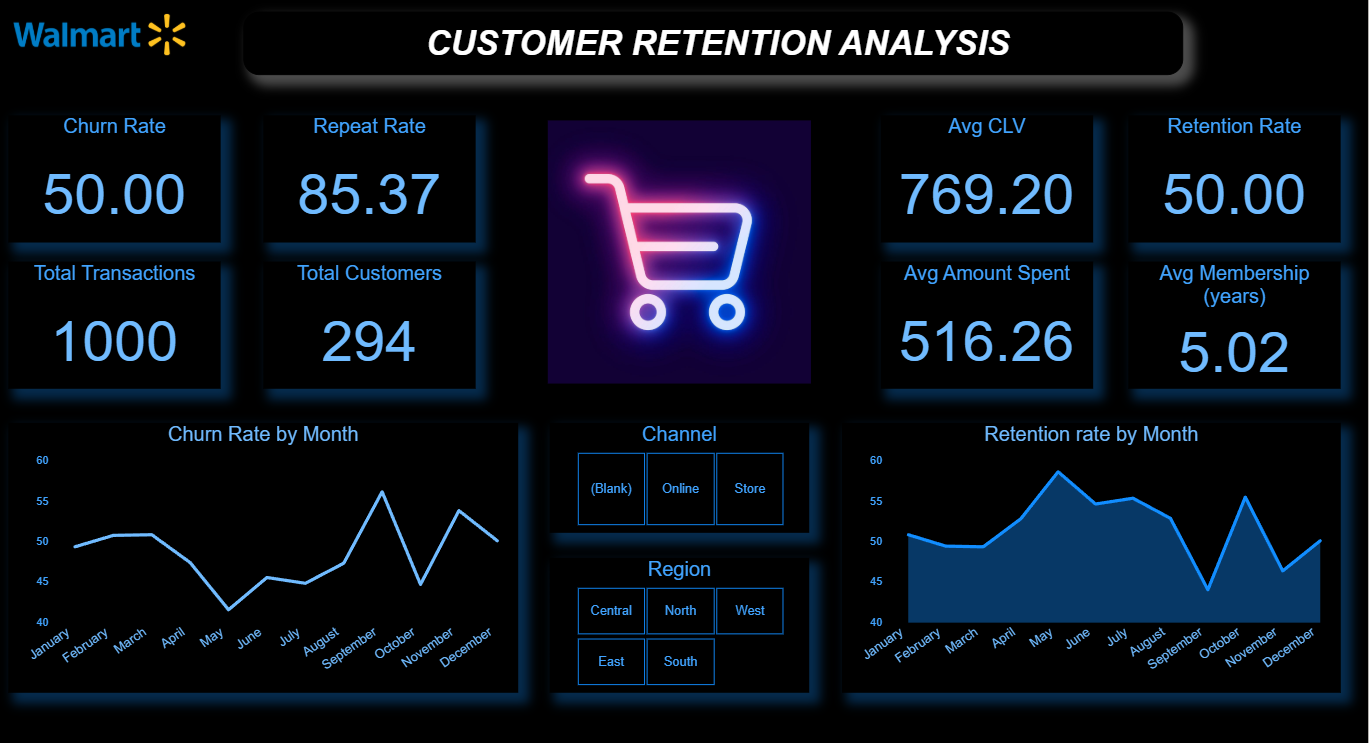

The dashboard page shown, as its layout file describes it:
{"tool":"powerbi","page":{"name":"KPI","canvas":[1280,720],"ordinal":0},"visuals":[{"type":"card","title":"Churn Rate","fields":{"Values":["Calculation Store.Churn Rate"]},"box":[15.1,117.4,197.7,118.6],"z":0},{"type":"card","title":"Avg CLV","fields":{"Values":["Avg(Avg_CLV.Avg_CLV)"]},"box":[826.7,117.4,197.7,118.6],"z":1000},{"type":"card","title":"Retention Rate","fields":{"Values":["Calculation Store.Retention %"]},"box":[1057,117.4,197.7,118.6],"z":2000},{"type":"card","title":"Repeat Rate","fields":{"Values":["Calculation Store.Repeat rate"]},"box":[252.3,117.4,197.7,118.6],"z":3000},{"type":"card","title":"Total Customers","fields":{"Values":["Count(Customer_Transactions.Customer_ID)"]},"box":[252.3,253.5,197.7,118.6],"z":4000},{"type":"card","title":"Total Transactions","fields":{"Values":["Count(Customer_Transactions.Transaction_ID)"]},"box":[15.1,253.5,197.7,118.6],"z":5000},{"type":"card","title":"Avg Amount Spent","fields":{"Values":["Avg(Customer_Transactions.Amount)"]},"box":[826.7,253.5,197.7,118.6],"z":6000},{"type":"card","title":"Avg Membership (years)","fields":{"Values":["Avg(CLV_Table.Membership_Duration (years))"]},"box":[1057,253.5,197.7,118.6],"z":7000},{"type":"image","box":[15.1,12.8,169.8,59.3],"z":8000},{"type":"textbox","box":[234,21,874,63],"z":9000},{"type":"slicer","title":"Region","fields":{"Values":["Store_Locations.Region"]},"box":[518.6,529.1,241.9,125.6],"z":10000},{"type":"slicer","title":"Channel","fields":{"Values":["Customer_Demographics.Preferred_Channel"]},"box":[518.6,403.5,241.9,102.3],"z":11000},{"type":"lineChart","fields":{"Y":["Calculation Store.Churn Rate"],"Category":["Customer_Transactions.Transaction_Date.Variation.Date Hierarchy.Month"]},"box":[15.1,403.5,474.4,251.2],"z":12000},{"type":"areaChart","title":"Retention rate by Month","fields":{"Y":["Calculation Store.Retention %"],"Category":["Customer_Transactions.Transaction_Date.Variation.Date Hierarchy.Month"]},"box":[790.7,403.5,464,251.2],"z":13000},{"type":"image","box":[505.8,117.4,267.4,254.7],"z":14000}]}

Visuals, with their boxes on the page's 1280x720 design canvas (x1, y1, x2, y2). These are canvas units, not pixel positions in the 1369x743 screenshot, which may show the page scaled, cropped or inside an application window:
"Churn Rate" card: locate(15, 117, 213, 236)
"Avg CLV" card: locate(827, 117, 1024, 236)
"Retention Rate" card: locate(1057, 117, 1255, 236)
"Repeat Rate" card: locate(252, 117, 450, 236)
"Total Customers" card: locate(252, 254, 450, 372)
"Total Transactions" card: locate(15, 254, 213, 372)
"Avg Amount Spent" card: locate(827, 254, 1024, 372)
"Avg Membership (years)" card: locate(1057, 254, 1255, 372)
image: locate(15, 13, 185, 72)
textbox: locate(234, 21, 1108, 84)
"Region" slicer: locate(519, 529, 760, 655)
"Channel" slicer: locate(519, 404, 760, 506)
lineChart - Calculation Store.Churn Rate x Customer_Transactions.Transaction_Date.Variation.Date Hierarchy.Month: locate(15, 404, 490, 655)
"Retention rate by Month" areaChart: locate(791, 404, 1255, 655)
image: locate(506, 117, 773, 372)
